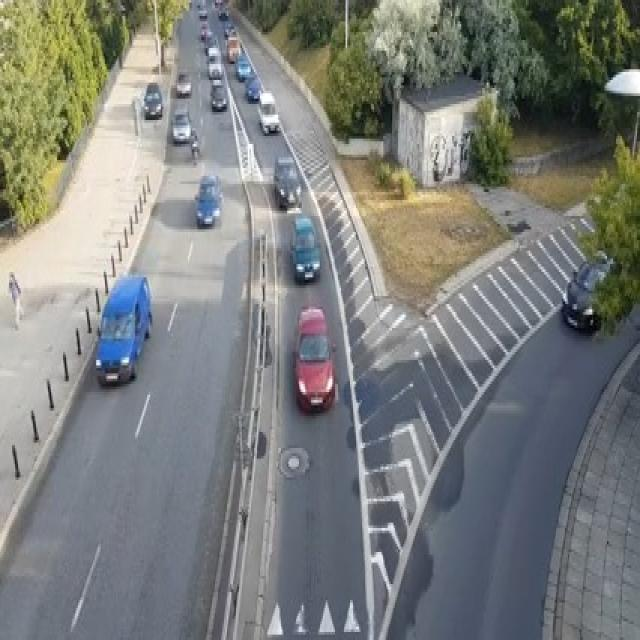car: (95, 275, 152, 384), (560, 248, 622, 331), (291, 304, 335, 411), (288, 216, 320, 283), (194, 173, 222, 227), (274, 155, 300, 208), (257, 91, 279, 133), (171, 104, 191, 144), (143, 83, 162, 117), (210, 80, 227, 109), (245, 75, 263, 101), (226, 35, 240, 61), (176, 72, 191, 96), (234, 59, 251, 80), (204, 32, 220, 53), (189, 128, 200, 157), (208, 59, 222, 77), (206, 45, 221, 59), (200, 21, 210, 40), (224, 22, 234, 38), (198, 8, 208, 19), (218, 8, 228, 19), (213, 0, 222, 5)
